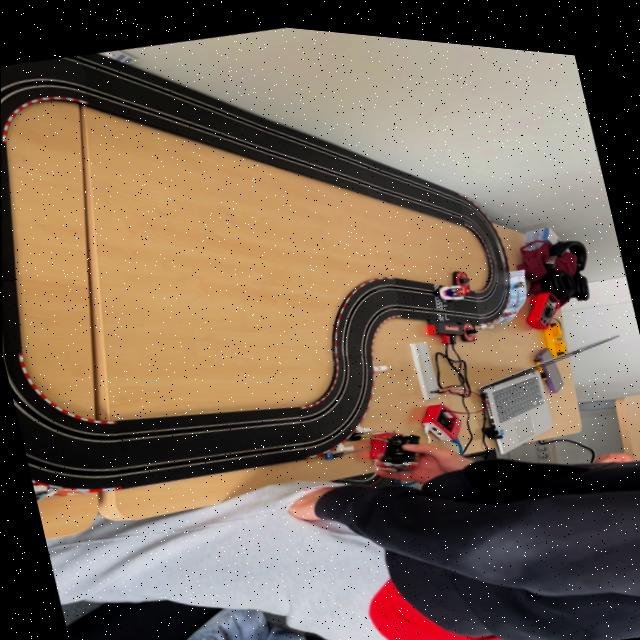mario: (431, 267, 476, 302)
